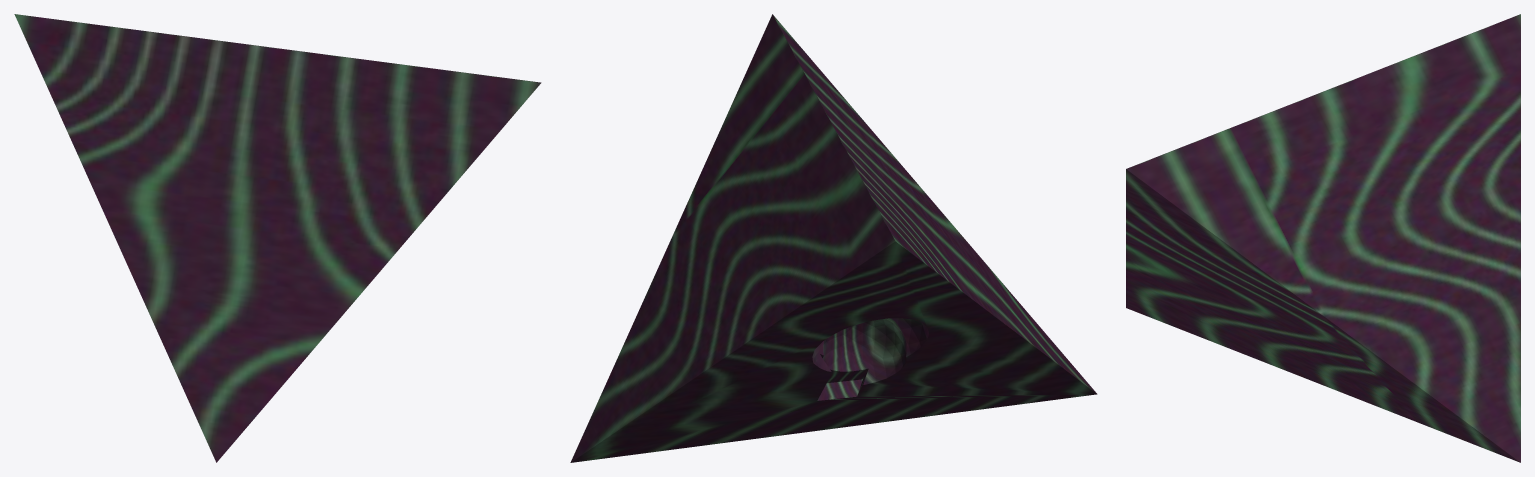
3 views of the same model, side by side, from view 1: azimuth 30°, elevation 25°; view 2: azimuth 150°, elevation 25°; view 3: azimuth 270°, elevation 25° (orthographic). The views are drawn at different scales.
Visible parts, largest first — view 1: geometry_0; view 2: geometry_0; view 3: geometry_0.
Boxes of the visible parts, x1=… form: geometry_0: x1=14, y1=14, x2=541, y2=462; geometry_0: x1=570, y1=14, x2=1097, y2=462; geometry_0: x1=1126, y1=14, x2=1520, y2=462.
Bounding box in the file's own units: 2.45 × 2.17 × 2.64.
1 material, 1 textured.
